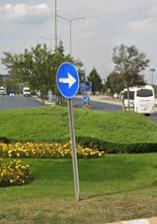turnright: (57, 63, 79, 97)
